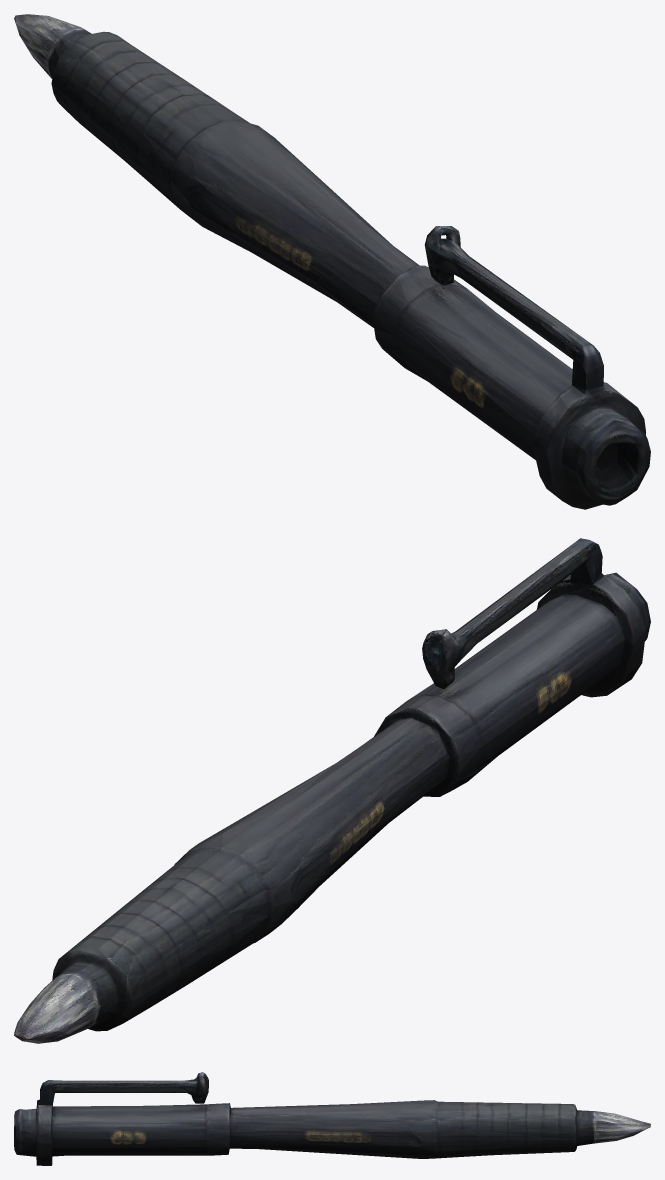
The model's file is black_pen.glb.
3 views of the same model, one above another, from view 1: azimuth 30°, elevation 25°; view 2: azimuth 150°, elevation 25°; view 3: azimuth 270°, elevation 25° (orthographic). The views are drawn at different scales.
Parts seen in each view (by area): view 1: geometry_0; view 2: geometry_0; view 3: geometry_0.
Part boxes in pixels (left/top/right/bottom): geometry_0: left=14, top=14, right=650, bottom=509; geometry_0: left=14, top=538, right=650, bottom=1043; geometry_0: left=14, top=1072, right=650, bottom=1165.
Bounding box in the file's own units: 0.1028 × 0.1557 × 0.9993.
Materials: 1 (1 with a texture image).
